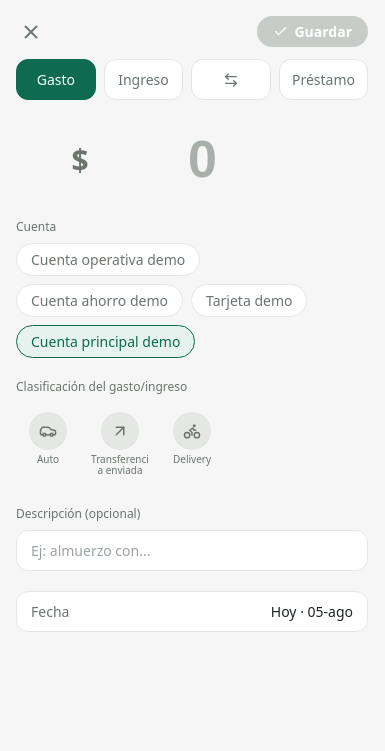
QuickEntryPage › shows an error and keeps the form open when save fails
In the field named "Monto": (203, 159) [93,128,313,190], type "12500"
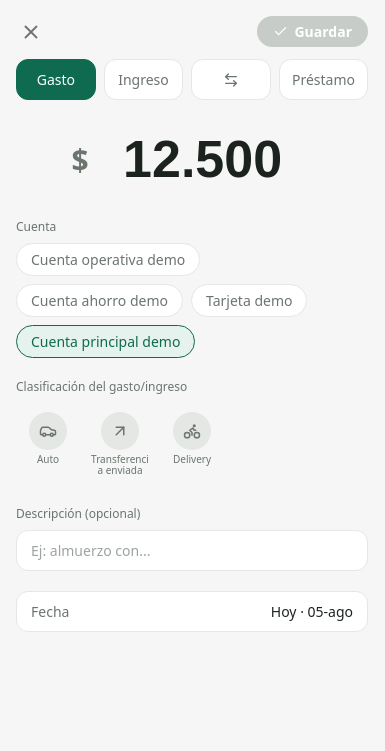
In the field with placeholder "Ej: almuerzo con...": (192, 550) [16,530,368,571], type "Compra fallida"
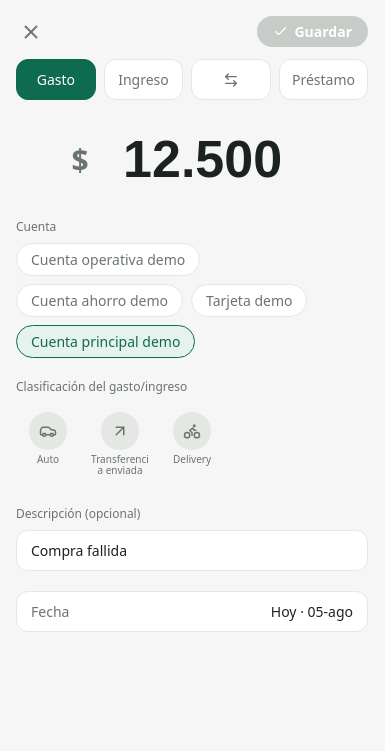
Click the button "Auto": (48, 444) [16,403,80,485]
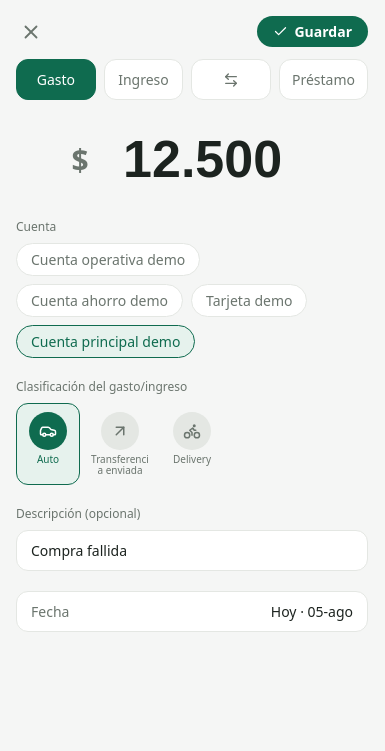
Click the button "Guardar": (313, 32) [258,16,368,47]
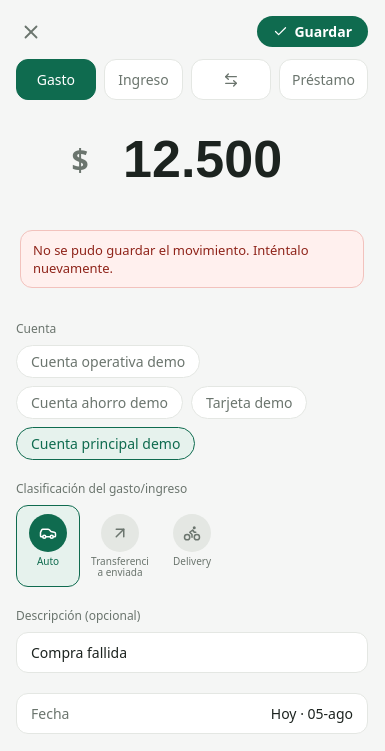
Now the field named "Monto" holds "12.500", box [93,128,313,190]
Now the message reads "No se pudo guardar el movimiento. Inténtalo nuevamente.", box [33,241,309,277]
